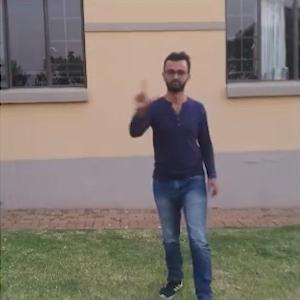land_hand: (132, 79, 162, 114)
